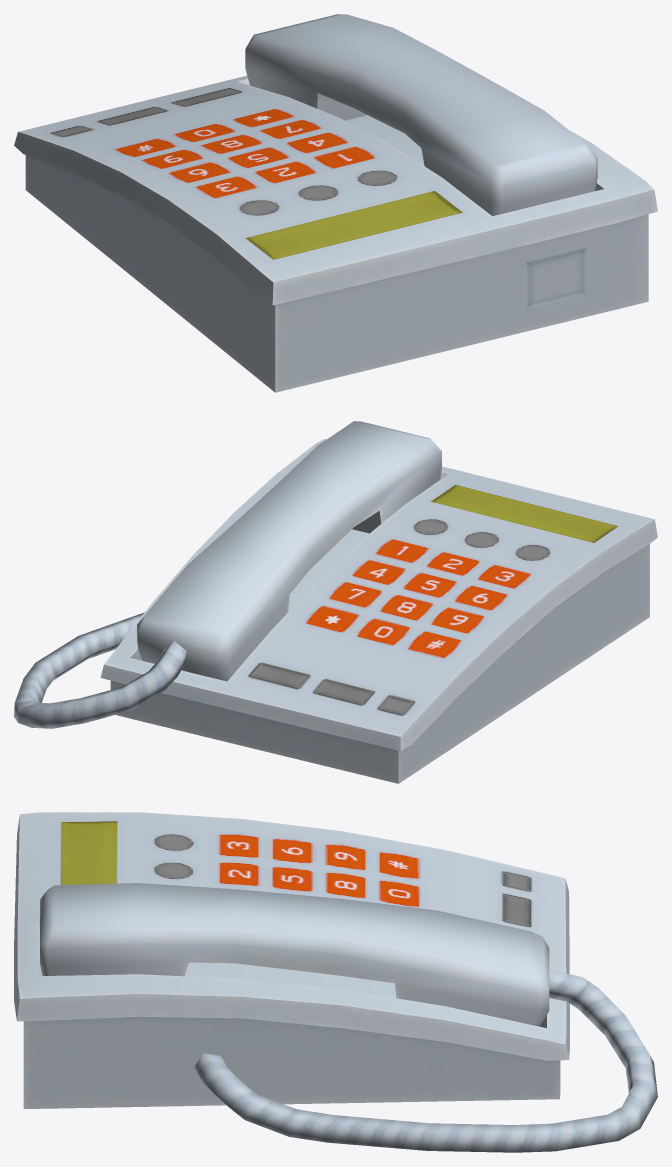
Rendered from OfficePhone01.fbx.
3 views of the same model, one above another, from view 1: azimuth 30°, elevation 25°; view 2: azimuth 150°, elevation 25°; view 3: azimuth 270°, elevation 25° (orthographic). The views are drawn at different scales.
Visible parts, largest first — view 1: OfficePhone01A; view 2: OfficePhone01A; view 3: OfficePhone01A.
Boxes of the visible parts, x1,y1,x2,y2 form: OfficePhone01A: [14, 14, 657, 392]; OfficePhone01A: [14, 421, 657, 783]; OfficePhone01A: [14, 812, 657, 1152].
Size of the model in its own units: 0.2844 by 0.0989 by 0.3389.
Materials: 1 (1 with a texture image).
